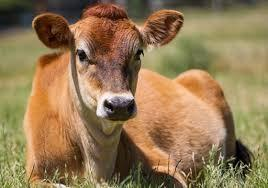cow: (23, 4, 235, 188)
